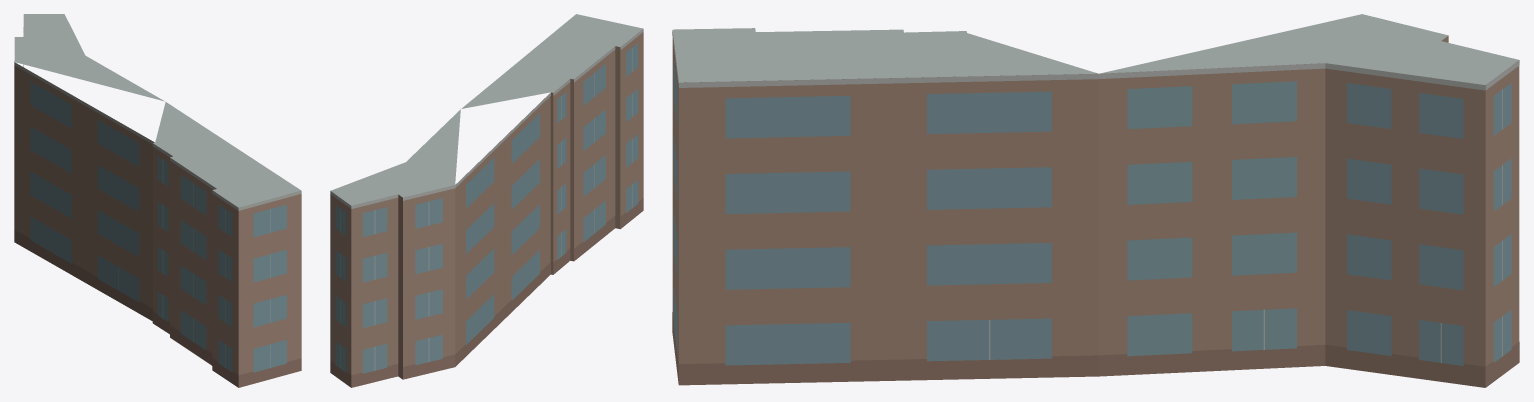
Rendered from survey-upis-32525803.glb.
The picture shows the model from 3 angles, left to right: view 1: azimuth 30°, elevation 25°; view 2: azimuth 150°, elevation 25°; view 3: azimuth 270°, elevation 25°; orthographic projection. The views are drawn at different scales.
Parts seen in each view (by area): view 1: survey-upis-32525803.tmp; view 2: survey-upis-32525803.tmp; view 3: survey-upis-32525803.tmp.
Boxes of the visible parts, box(x1,y1,x2,y2) form: survey-upis-32525803.tmp: box(14, 14, 301, 387); survey-upis-32525803.tmp: box(330, 14, 643, 387); survey-upis-32525803.tmp: box(672, 14, 1519, 387).
Bounding box in the file's own units: 6.86 × 13.59 × 34.47.
